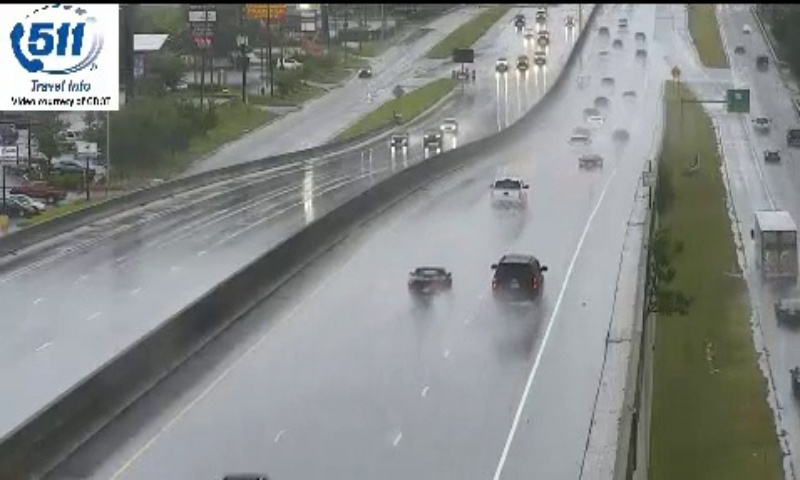car: (491, 255, 543, 296), (408, 266, 450, 297), (490, 177, 527, 207)
